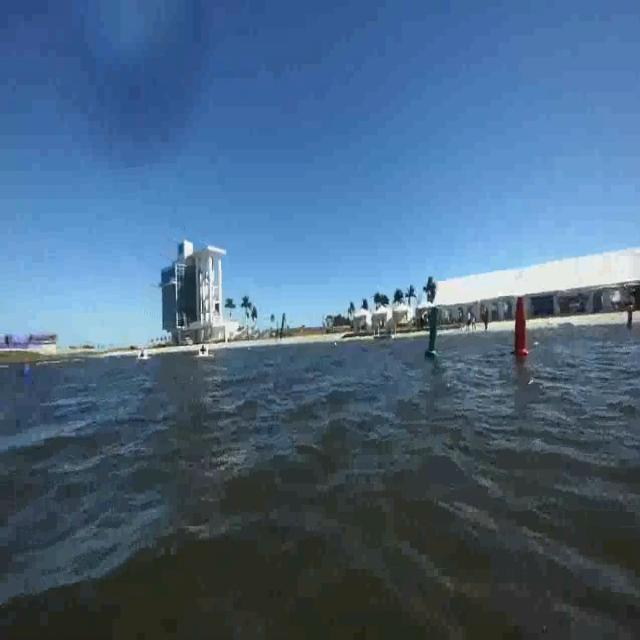blue-buoy: (20, 364, 30, 378)
green-column-buoy: (425, 306, 442, 359)
red-column-buoy: (512, 295, 531, 356)
